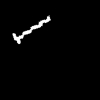half_double_crochet: (13, 17, 49, 43)
